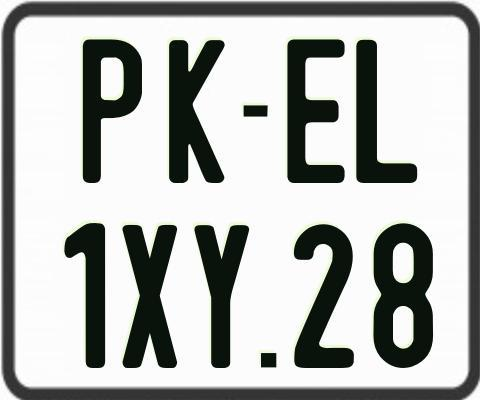1: (61, 223, 104, 374)
2: (292, 224, 355, 368)
8: (372, 221, 435, 369)
E: (285, 38, 346, 184)
K: (167, 37, 224, 181)
L: (355, 39, 422, 187)
P: (83, 36, 146, 180)
X: (121, 225, 176, 369)
Y: (191, 223, 252, 367)
